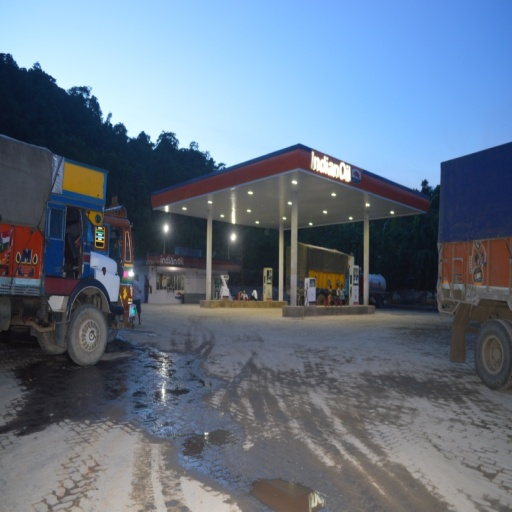roof: (153, 145, 432, 232)
